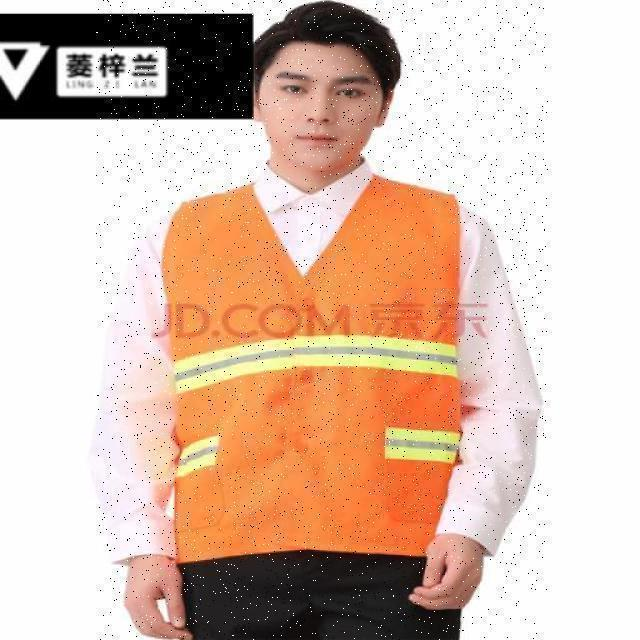safety_vest: (158, 178, 474, 557)
